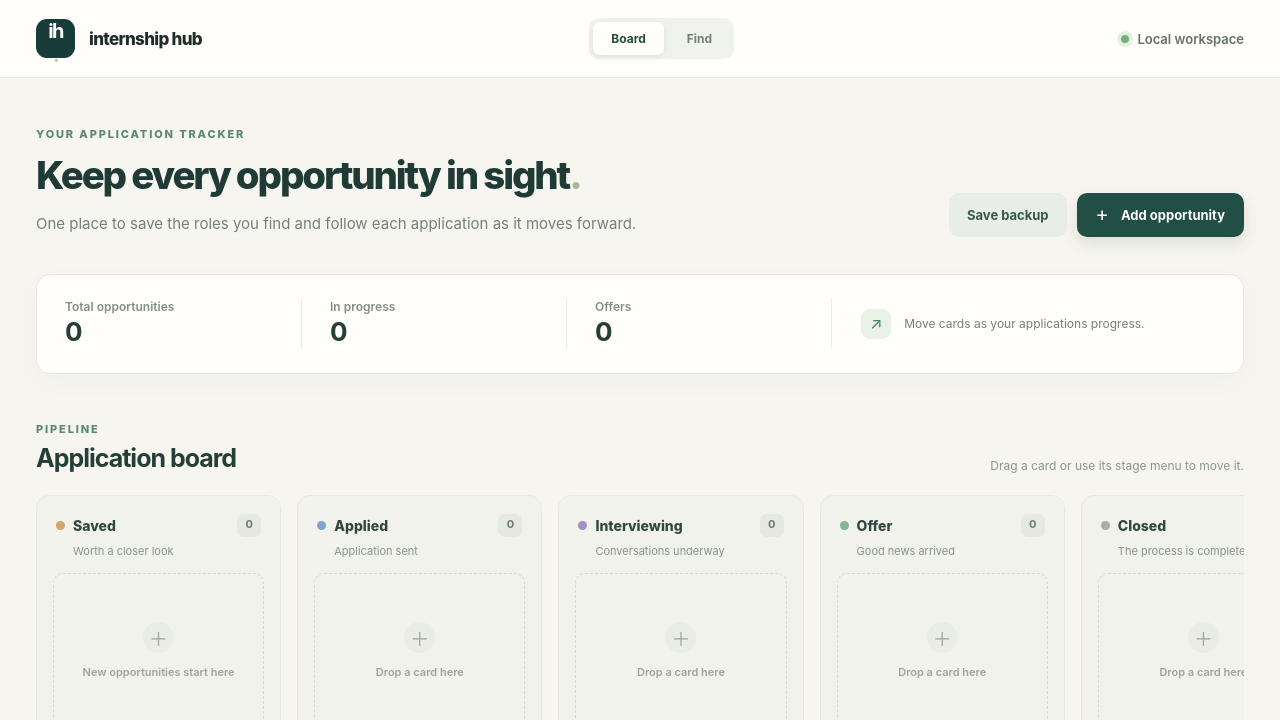
Test case: saves a backup through the desktop bridge and reports success or failure
Click the button "Save backup".
click(1008, 214)  # box 949,192 -> 1067,236
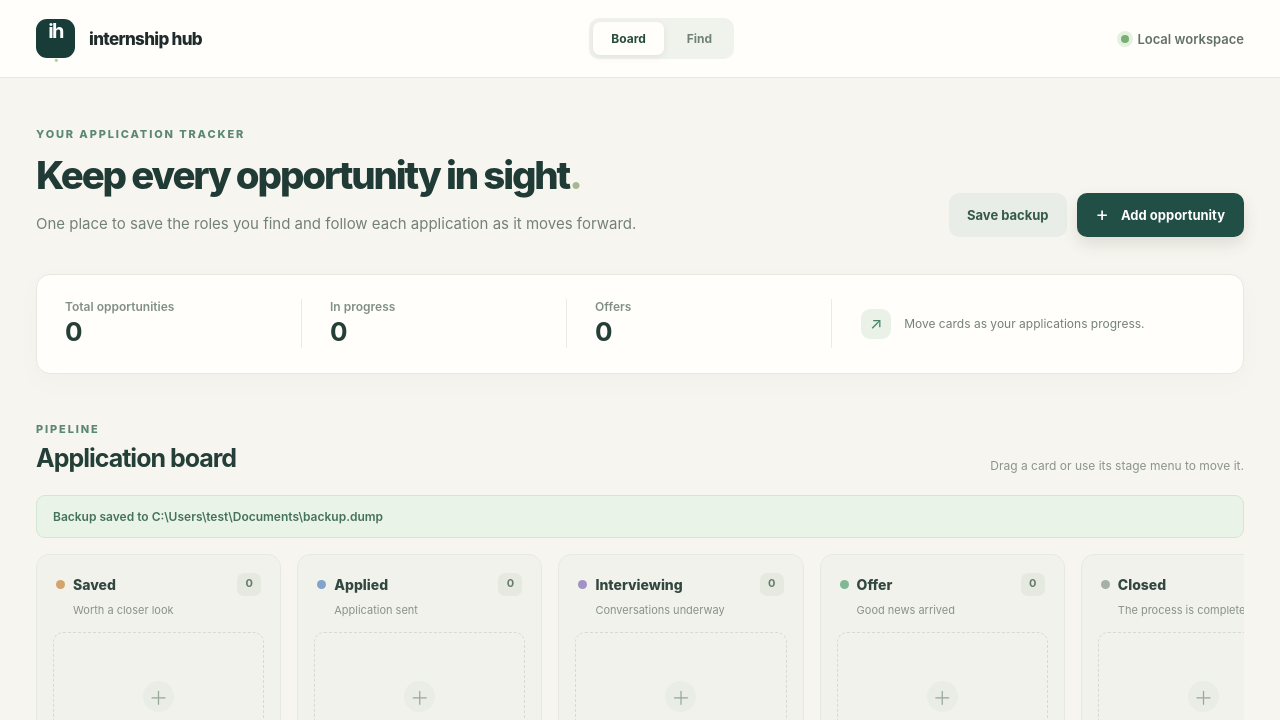
Now the text "Backup saved to C:\\Users\\test\\Documents\\backup.dump" is shown, box 36,494 -> 1244,538
Click the button "Save backup".
click(1008, 214)  # box 949,192 -> 1067,236
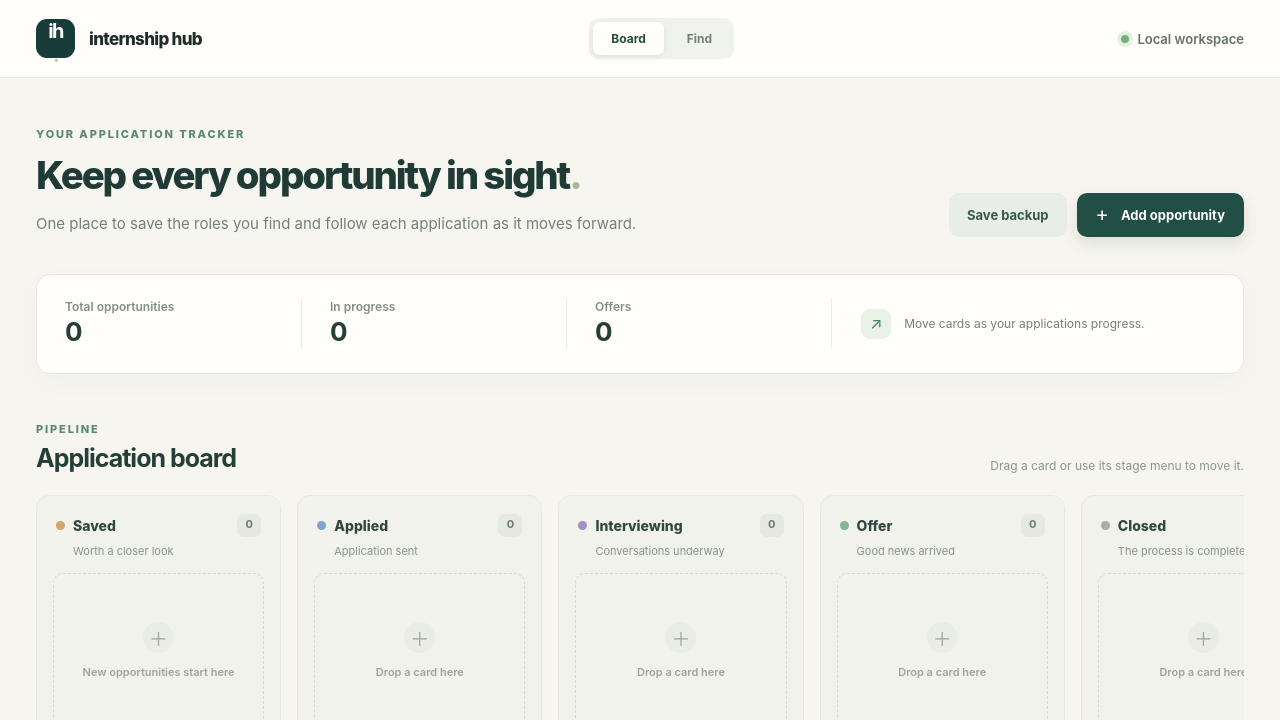
Now the text "Backup saved to" is gone
Click the button "Save backup".
click(1008, 214)  # box 949,192 -> 1067,236
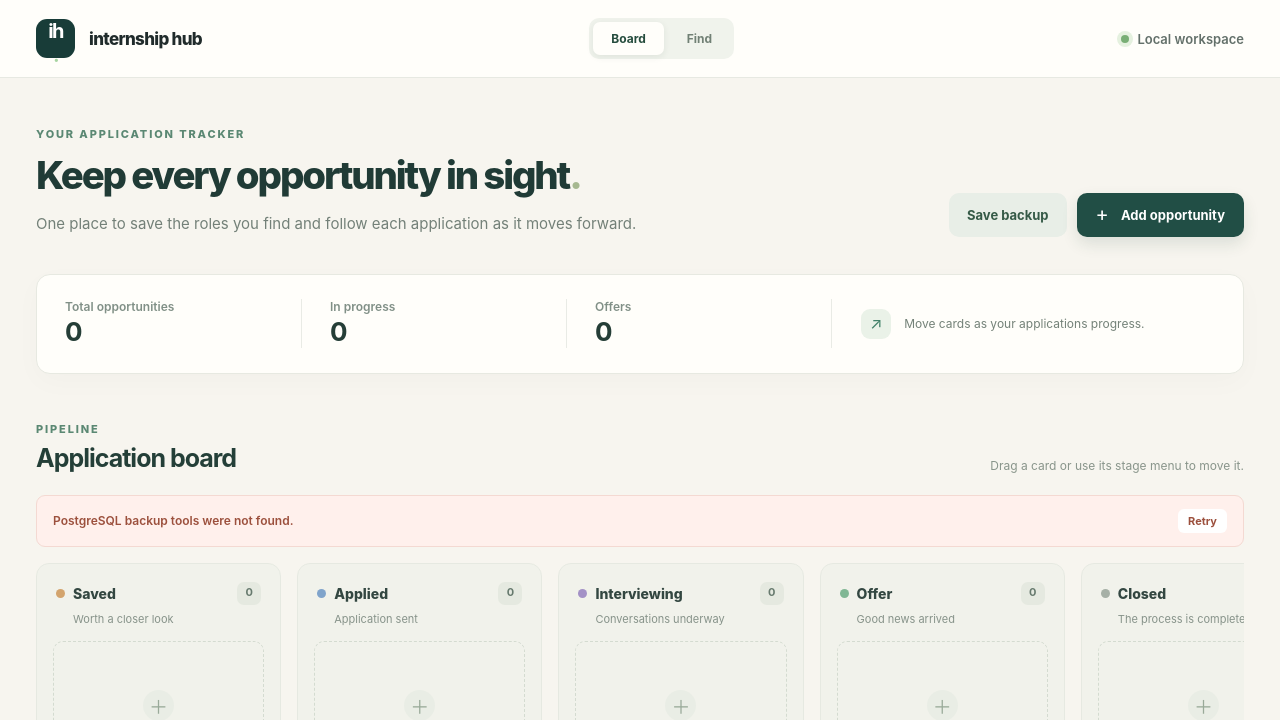
Now the text "PostgreSQL backup tools were not found." is shown, box 53,513 -> 294,528
